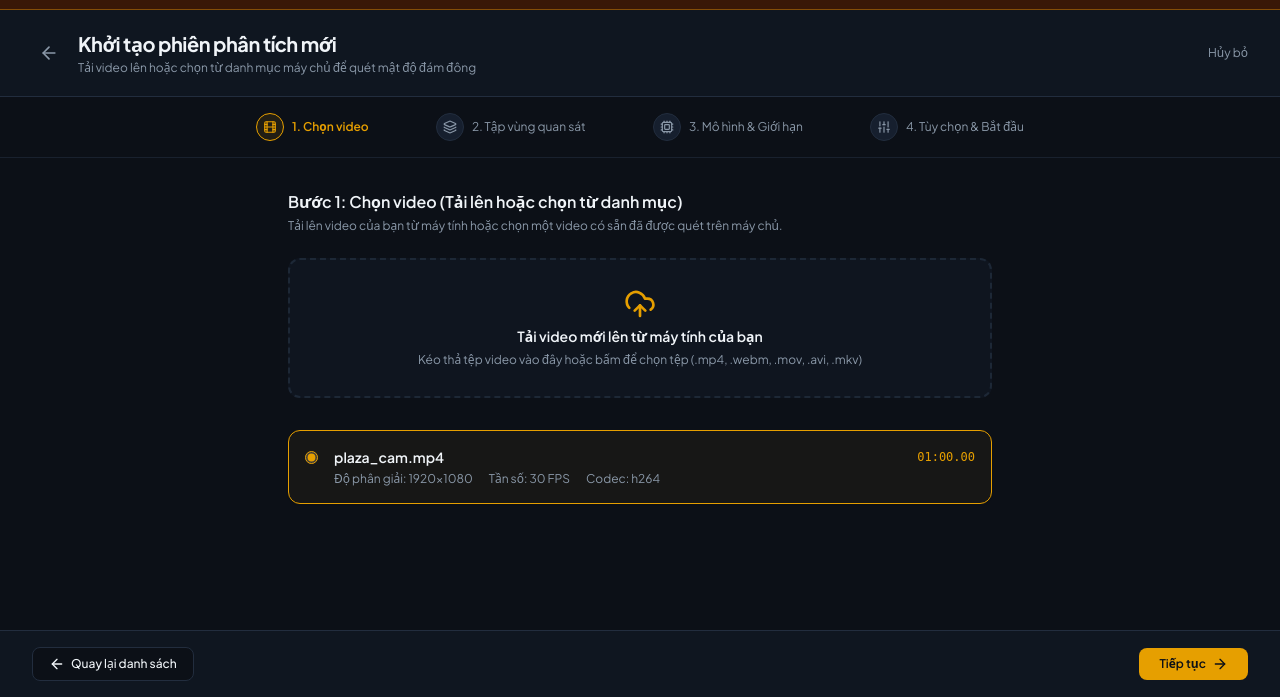
NewSessionWizard › steps through wizard and displays model identity
Expected: the heading "Bước 1: Chọn video (Tải lên hoặc chọn từ danh mục)" is shown, x1=288 y1=191 x2=683 y2=212
Click the button "Tiếp tục".
click(1194, 664)  # box x1=1139 y1=648 x2=1248 y2=680
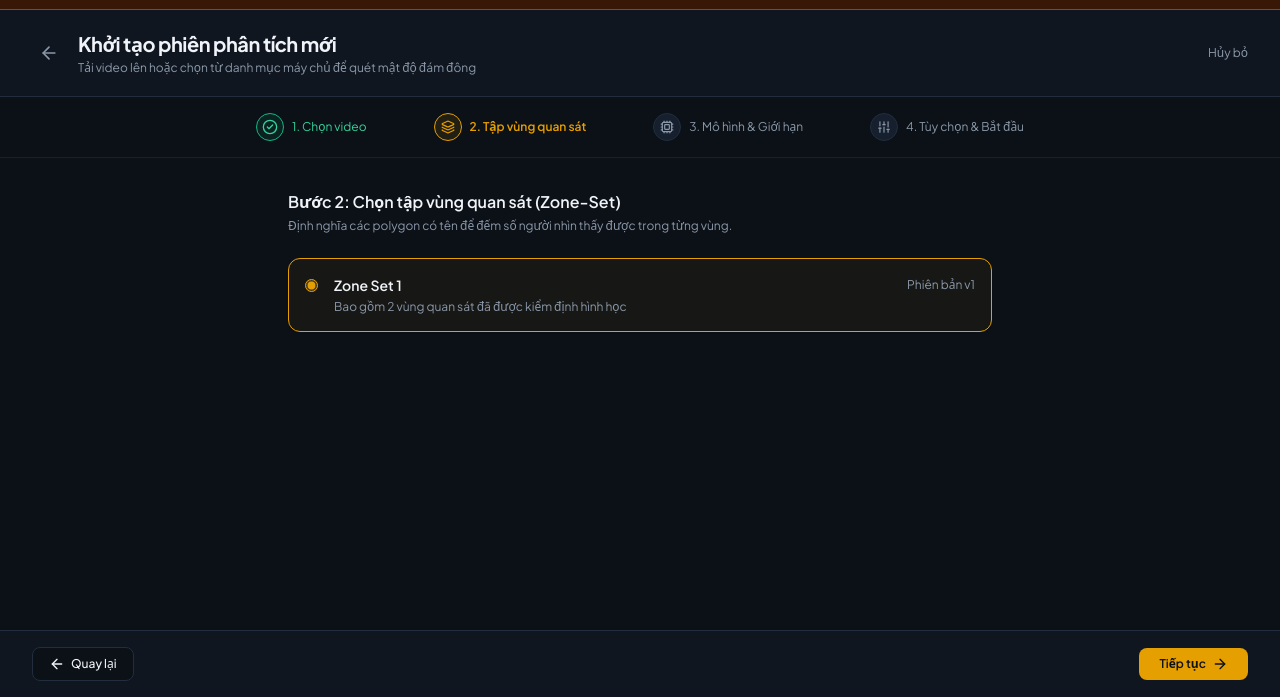
Expected: the heading "Bước 2: Chọn tập vùng quan sát (Zone-Set)" is shown, x1=288 y1=191 x2=621 y2=212
Click the button "Tiếp tục".
click(1194, 664)  # box x1=1139 y1=648 x2=1248 y2=680
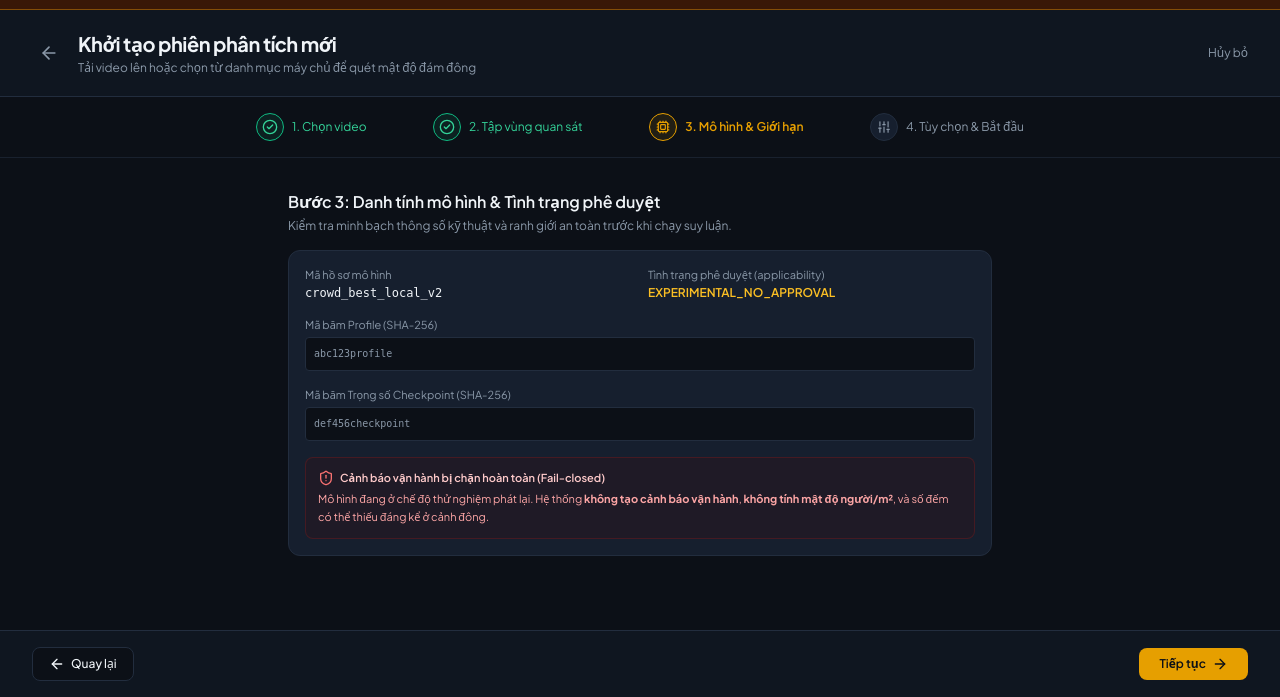
Expected: the heading "Bước 3: Danh tính mô hình & Tình trạng phê duyệt" is shown, x1=288 y1=191 x2=660 y2=212
Expected: the text "crowd_best_local_v2" is shown, x1=305 y1=286 x2=442 y2=300
Expected: the text "EXPERIMENTAL_NO_APPROVAL" is shown, x1=648 y1=285 x2=835 y2=300
Click the button "Tiếp tục".
click(1194, 664)  # box x1=1139 y1=648 x2=1248 y2=680
(page scrolled)
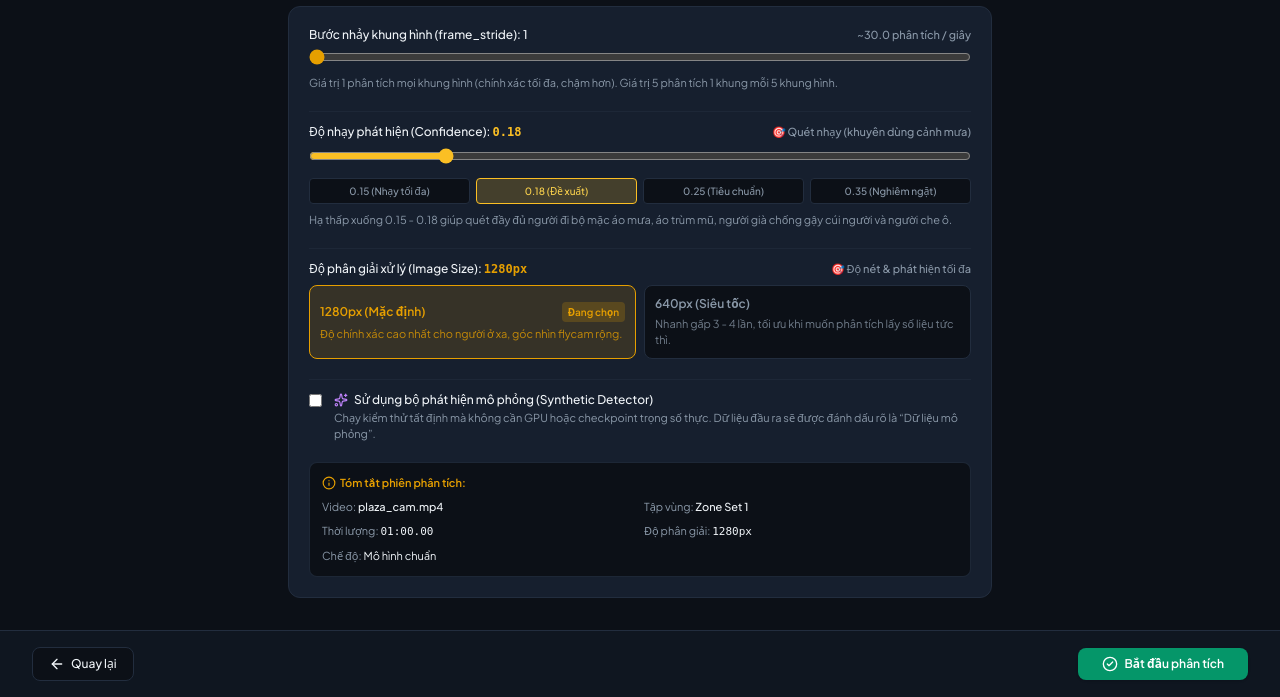
Expected: the button "Bắt đầu phân tích" is shown, x1=1078 y1=648 x2=1248 y2=680
